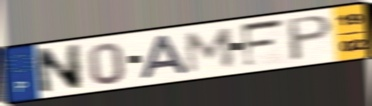0: (85, 40, 128, 87)
A: (137, 33, 192, 81)
F: (239, 16, 288, 71)
M: (186, 26, 237, 75)
N: (34, 42, 84, 97)
P: (286, 13, 336, 64)
